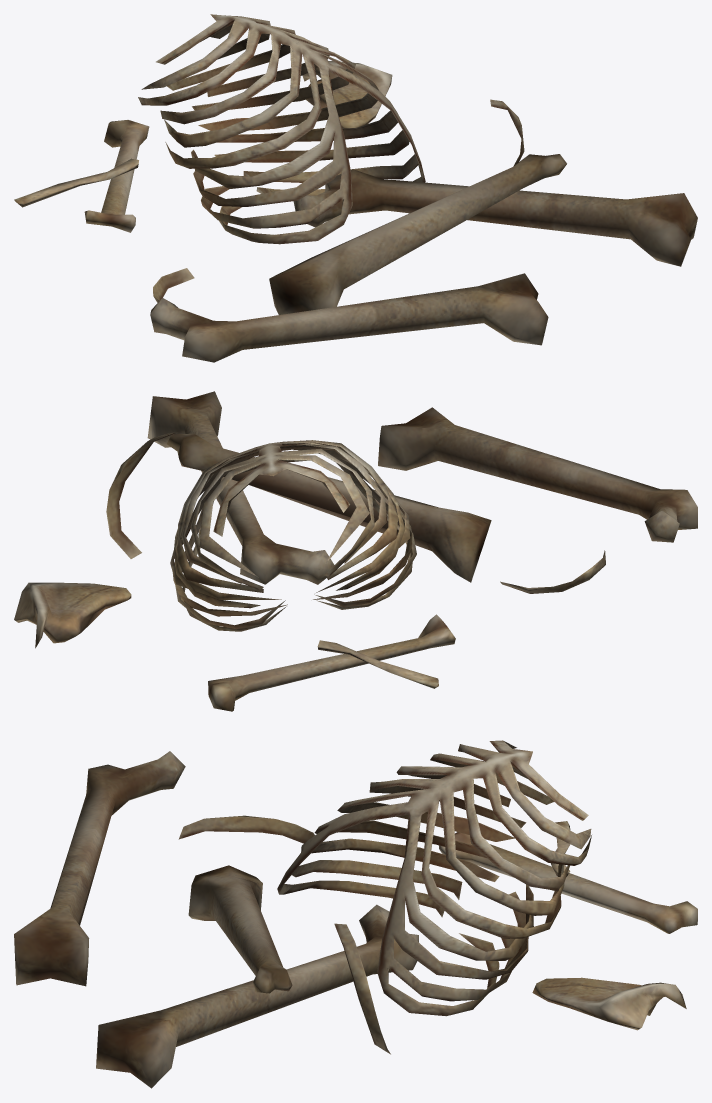
Rendered from skeletons_skelet_mass_01.fbx.
3 views of the same model, one above another, from view 1: azimuth 30°, elevation 25°; view 2: azimuth 150°, elevation 25°; view 3: azimuth 270°, elevation 25° (orthographic). The views are drawn at different scales.
Parts seen in each view (by area): view 1: skeletons_skelet_mass_01; view 2: skeletons_skelet_mass_01; view 3: skeletons_skelet_mass_01.
Part boxes in pixels (left/top/right/bottom): skeletons_skelet_mass_01: left=14, top=14, right=697, bottom=362; skeletons_skelet_mass_01: left=14, top=391, right=697, bottom=711; skeletons_skelet_mass_01: left=14, top=740, right=697, bottom=1088.
Bounding box in the file's own units: 79.52 × 27.08 × 82.12.
